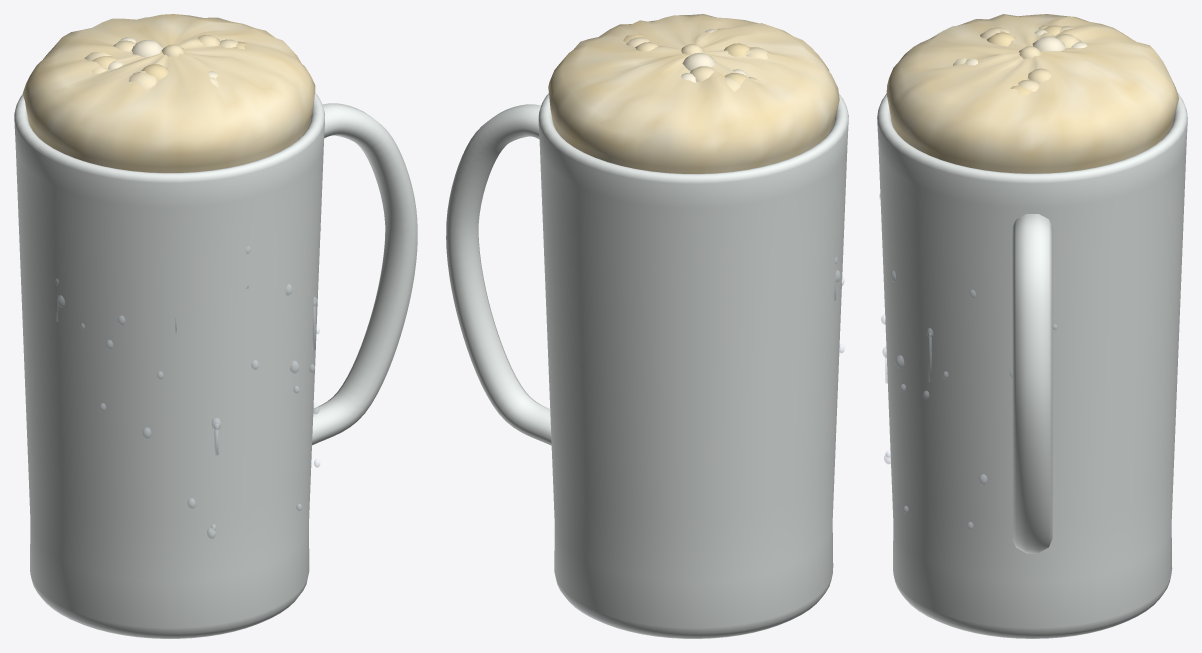
Rendered from beb-chopp.glb.
The picture shows the model from 3 angles, left to right: view 1: azimuth 30°, elevation 25°; view 2: azimuth 150°, elevation 25°; view 3: azimuth 270°, elevation 25°; orthographic projection.
Parts seen in each view (by area): view 1: chopp_vidro, chopp_espuma, chopp_gotas; view 2: chopp_vidro, chopp_espuma; view 3: chopp_vidro, chopp_espuma, chopp_gotas.
Boxes of the visible parts, <box> form: chopp_vidro: <box>14,92,417,638</box>; chopp_espuma: <box>22,14,315,172</box>; chopp_gotas: <box>55,246,319,538</box>; chopp_vidro: <box>446,93,848,638</box>; chopp_espuma: <box>548,14,839,173</box>; chopp_vidro: <box>877,92,1187,638</box>; chopp_espuma: <box>886,14,1178,173</box>; chopp_gotas: <box>879,194,1056,529</box>.
Size of the model in its own units: 0.1254 by 0.171 by 0.089.
